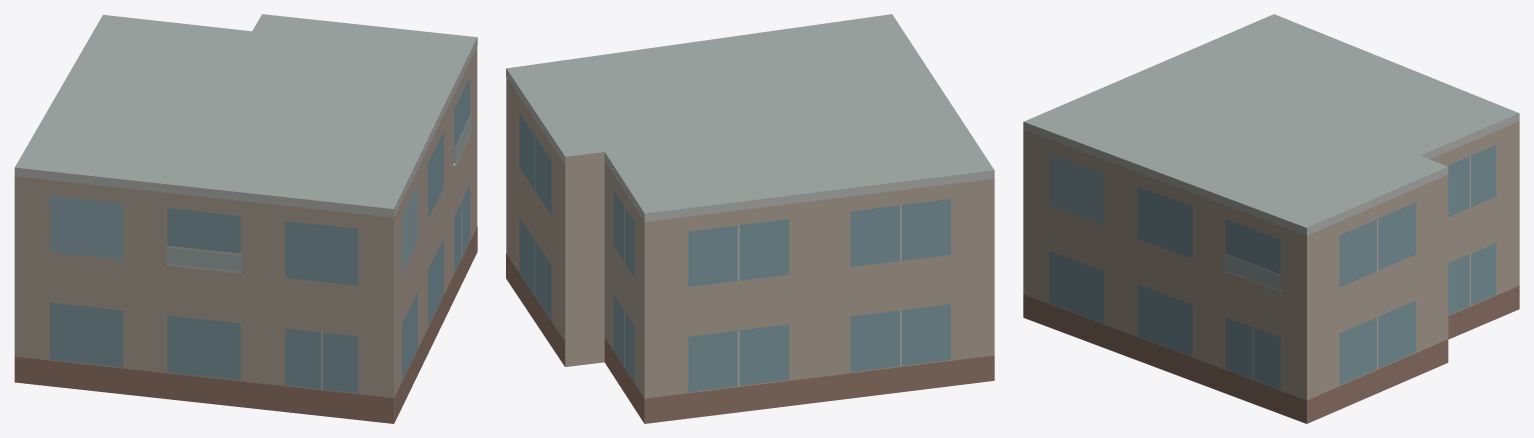
Rendered from survey-upis-32850798.glb.
3 renders of one model, left to right at view 1: azimuth 30°, elevation 25°; view 2: azimuth 150°, elevation 25°; view 3: azimuth 270°, elevation 25°, orthographic. The views are drawn at different scales.
Parts seen in each view (by area): view 1: survey-upis-32850798.tmp; view 2: survey-upis-32850798.tmp; view 3: survey-upis-32850798.tmp.
Boxes of the visible parts, bbox=[...] form: survey-upis-32850798.tmp: bbox=[14, 14, 477, 423]; survey-upis-32850798.tmp: bbox=[506, 14, 994, 423]; survey-upis-32850798.tmp: bbox=[1023, 14, 1519, 423].
Bounding box in the file's own units: 14.29 × 6.1 × 14.01.
